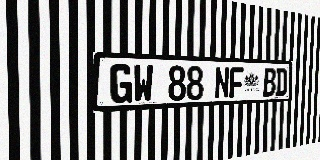8: (168, 65, 187, 101), (187, 66, 204, 100)
B: (263, 68, 276, 97)
D: (275, 68, 287, 96)
F: (229, 67, 244, 98)
G: (110, 64, 132, 104)
N: (214, 67, 229, 99)
W: (133, 65, 153, 103)
